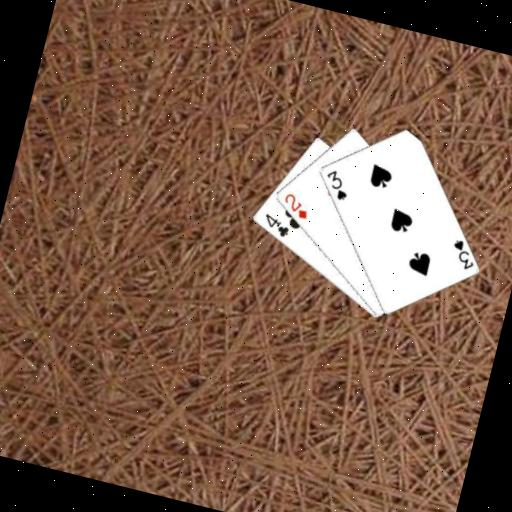2D: (278, 189, 314, 222)
3S: (318, 165, 354, 203), (446, 235, 481, 273)
4C: (258, 210, 294, 240)
